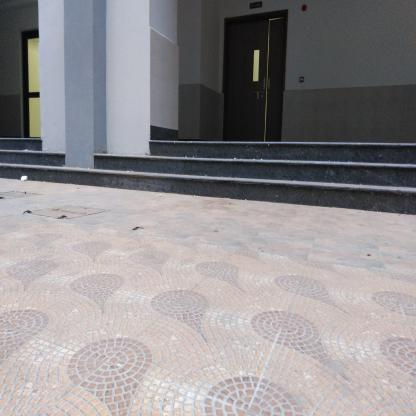stairs: (154, 139, 412, 205)
